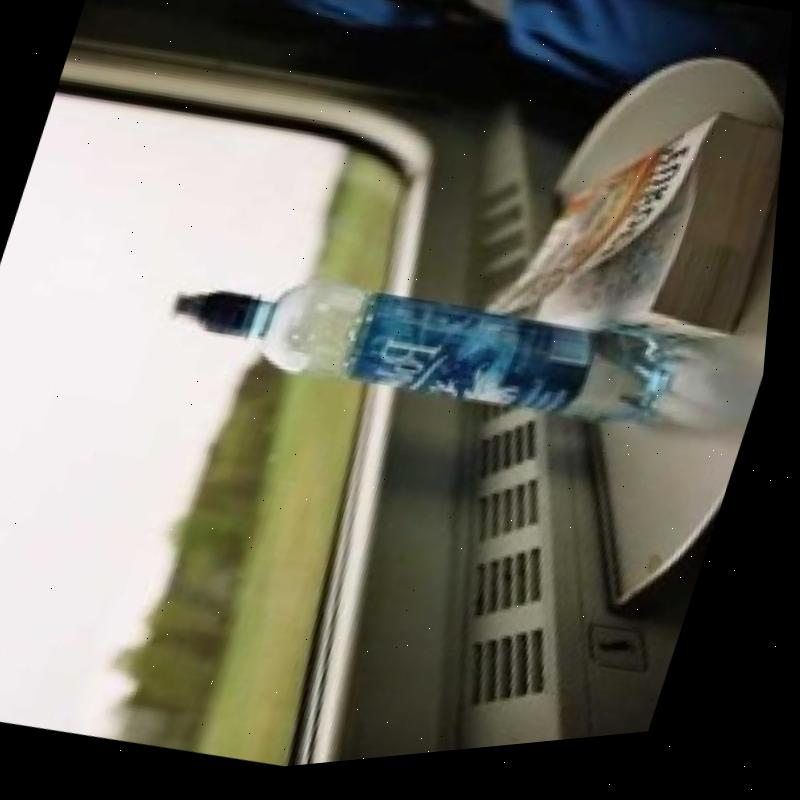botella: (142, 216, 697, 494)
